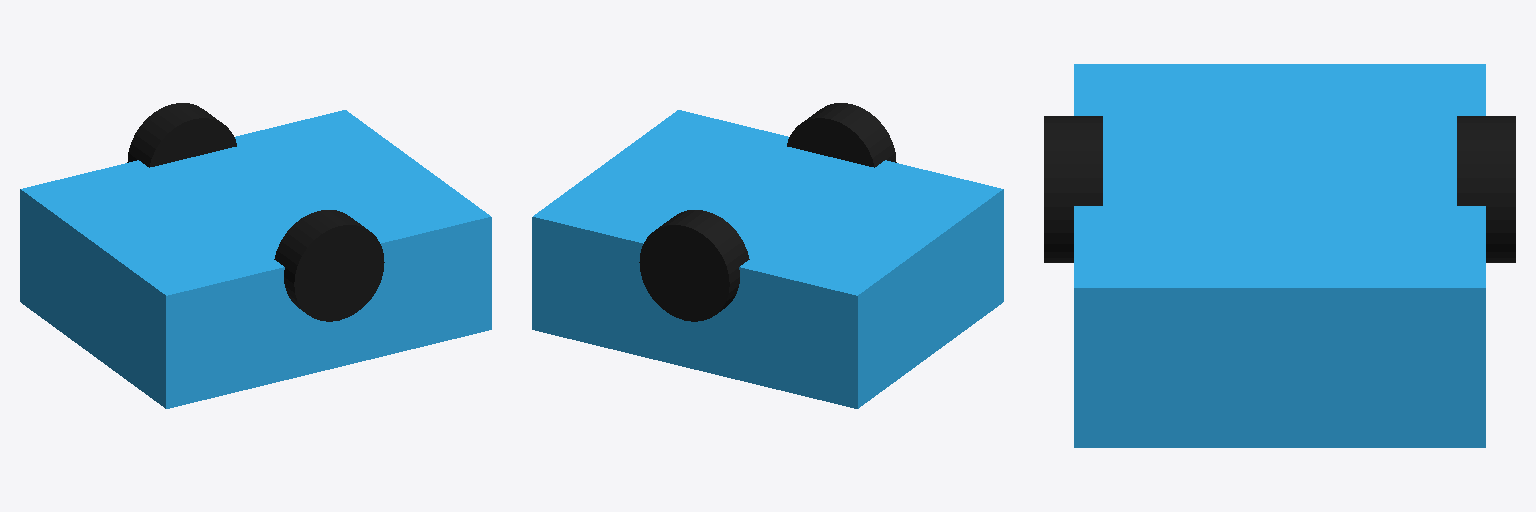
robot.urdf — t0_robot:
<?xml version="1.0"?>
<robot name="t0_robot">
  <link name="base_footprint"/>
  <link name="base_link">
    <visual>
      <geometry><box size="0.36 0.28 0.12"/></geometry>
      <material name="blue"><color rgba="0.25 0.75 1.0 1"/></material>
    </visual>
    <collision>
      <geometry><box size="0.36 0.28 0.12"/></geometry>
    </collision>
    <inertial>
      <mass value="8.0"/>
      <inertia ixx="0.08" ixy="0" ixz="0" iyy="0.12" iyz="0" izz="0.14"/>
    </inertial>
  </link>
  <joint name="base_footprint_joint" type="fixed">
    <parent link="base_footprint"/><child link="base_link"/>
    <origin xyz="0 0 0.05" rpy="0 0 0"/>
  </joint>
  <link name="left_wheel">
    <visual>
      <origin xyz="0 0 0" rpy="1.5707 0 0"/>
      <geometry><cylinder radius="0.05" length="0.04"/></geometry>
      <material name="black"><color rgba="0.15 0.15 0.15 1"/></material>
    </visual>
    <collision>
      <origin xyz="0 0 0" rpy="1.5707 0 0"/>
      <geometry><cylinder radius="0.05" length="0.04"/></geometry>
    </collision>
  </link>
  <joint name="left_wheel_joint" type="continuous">
    <parent link="base_link"/><child link="left_wheel"/>
    <origin xyz="0 0.14 0.05" rpy="0 0 0"/>
    <axis xyz="0 1 0"/>
  </joint>
  <link name="right_wheel">
    <visual>
      <origin xyz="0 0 0" rpy="1.5707 0 0"/>
      <geometry><cylinder radius="0.05" length="0.04"/></geometry>
      <material name="black"><color rgba="0.15 0.15 0.15 1"/></material>
    </visual>
    <collision>
      <origin xyz="0 0 0" rpy="1.5707 0 0"/>
      <geometry><cylinder radius="0.05" length="0.04"/></geometry>
    </collision>
  </link>
  <joint name="right_wheel_joint" type="continuous">
    <parent link="base_link"/><child link="right_wheel"/>
    <origin xyz="0 -0.14 0.05" rpy="0 0 0"/>
    <axis xyz="0 1 0"/>
  </joint>
  <link name="laser_link"/>
  <joint name="laser_joint" type="fixed">
    <parent link="base_link"/><child link="laser_link"/>
    <origin xyz="0.12 0 0.06" rpy="0 0 0"/>
  </joint>
</robot>

--- Render facts (derived) ---
3 views of the same robot in one strip: view 1: azimuth 30°, elevation 25°; view 2: azimuth 150°, elevation 25°; view 3: azimuth 270°, elevation 25° (orthographic).
Robot: t0_robot — 5 links, 4 joints (2 continuous, 2 fixed); root link base_footprint; default pose: every joint at zero.
Visible links, largest first — view 1: base_link, right_wheel, left_wheel; view 2: base_link, left_wheel, right_wheel; view 3: base_link, left_wheel, right_wheel.
Boxes of the visible links, x1,y1,x2,y2 form: base_link: (20, 110, 491, 408); right_wheel: (274, 210, 384, 321); left_wheel: (127, 103, 236, 167); base_link: (532, 110, 1003, 408); left_wheel: (639, 210, 749, 321); right_wheel: (787, 103, 896, 167); base_link: (1074, 64, 1485, 447); left_wheel: (1457, 116, 1515, 262); right_wheel: (1044, 116, 1102, 262).
Size in the robot's own frame: 0.36 by 0.32 by 0.16 metres.
Geometry: primitives only (box / cylinder / sphere), no mesh files.
